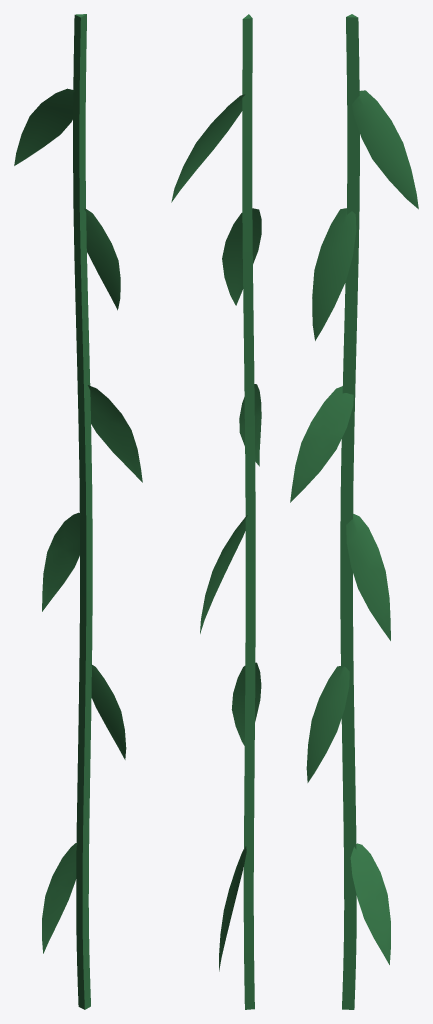
The model's file is vine_E_scanden.fbx.
The picture shows the model from 3 angles, left to right: view 1: azimuth 90°, elevation 25°; view 2: azimuth 150°, elevation 25°; view 3: azimuth 270°, elevation 25°; orthographic projection.
Visible parts, largest first — view 1: vine_E_scanden_A_root, vine_E_scanden_leaf_B6, vine_E_scanden_leaf_A8, vine_E_scanden_leaf_A7, vine_E_scanden_leaf_A6, vine_E_scanden_leaf_B5, vine_E_scanden_leaf_B4; view 2: vine_E_scanden_A_root, vine_E_scanden_leaf_B5, vine_E_scanden_leaf_B6, vine_E_scanden_leaf_A7, vine_E_scanden_leaf_B4, vine_E_scanden_leaf_A6, vine_E_scanden_leaf_A8; view 3: vine_E_scanden_A_root, vine_E_scanden_leaf_B6, vine_E_scanden_leaf_B5, vine_E_scanden_leaf_A8, vine_E_scanden_leaf_A7, vine_E_scanden_leaf_A6, vine_E_scanden_leaf_B4.
Boxes of the visible parts, bbox=[...] form: vine_E_scanden_A_root: bbox=[73, 14, 92, 1009]; vine_E_scanden_leaf_B6: bbox=[14, 88, 74, 165]; vine_E_scanden_leaf_A8: bbox=[88, 385, 142, 482]; vine_E_scanden_leaf_A7: bbox=[42, 512, 80, 611]; vine_E_scanden_leaf_A6: bbox=[42, 843, 77, 953]; vine_E_scanden_leaf_B5: bbox=[84, 208, 120, 310]; vine_E_scanden_leaf_B4: bbox=[91, 664, 126, 759]; vine_E_scanden_A_root: bbox=[242, 14, 255, 1009]; vine_E_scanden_leaf_B5: bbox=[222, 208, 261, 305]; vine_E_scanden_leaf_B6: bbox=[171, 94, 245, 202]; vine_E_scanden_leaf_A7: bbox=[200, 515, 247, 633]; vine_E_scanden_leaf_B4: bbox=[231, 662, 261, 745]; vine_E_scanden_leaf_A6: bbox=[219, 846, 246, 971]; vine_E_scanden_leaf_A8: bbox=[239, 384, 261, 466]; vine_E_scanden_A_root: bbox=[340, 14, 359, 1009]; vine_E_scanden_leaf_B6: bbox=[352, 90, 418, 209]; vine_E_scanden_leaf_B5: bbox=[312, 208, 356, 340]; vine_E_scanden_leaf_A8: bbox=[290, 386, 353, 502]; vine_E_scanden_leaf_A7: bbox=[346, 514, 390, 640]; vine_E_scanden_leaf_A6: bbox=[350, 843, 390, 964]; vine_E_scanden_leaf_B4: bbox=[306, 666, 349, 782].
Bounding box in the file's own units: 9.94 × 193 × 22.67.
